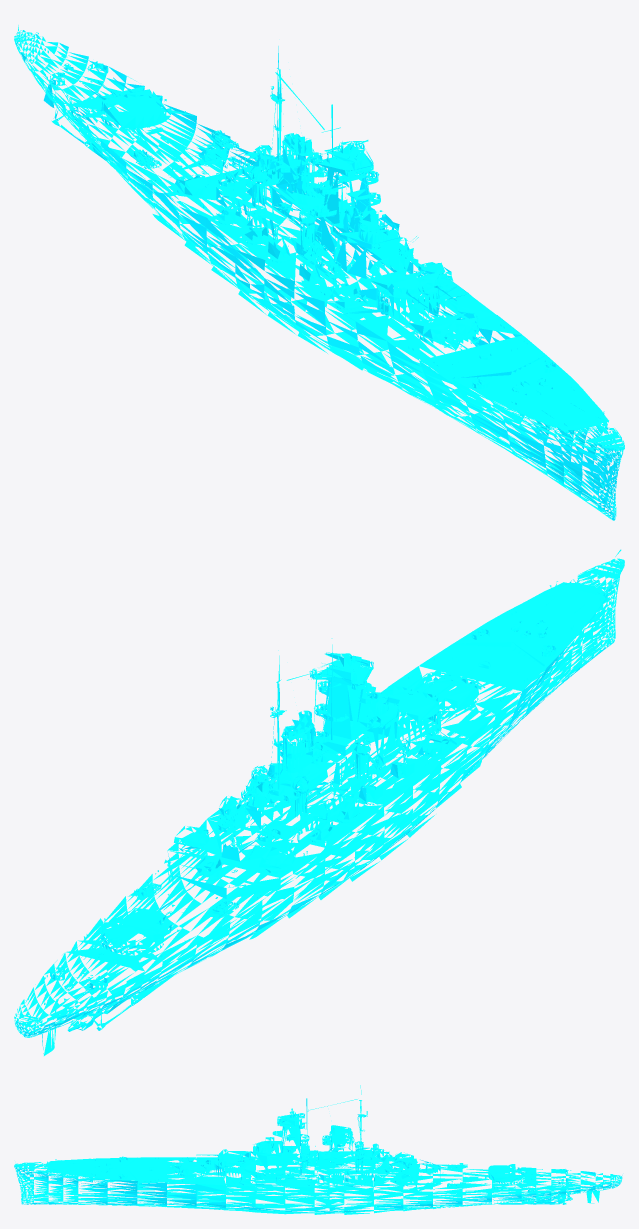
Rendered from PGSC010.glb.
The picture shows the model from 3 angles, top to bottom: view 1: azimuth 30°, elevation 25°; view 2: azimuth 150°, elevation 25°; view 3: azimuth 270°, elevation 25°; orthographic projection. The views are drawn at different scales.
Parts seen in each view (by area): view 1: hull_mid, main_battery, secondary_battery, superstructure, aa_mount, torpedo; view 2: hull_mid, main_battery, secondary_battery, superstructure, aa_mount; view 3: hull_mid, main_battery, secondary_battery, superstructure, aa_mount, torpedo.
Boxes of the visible parts, box(x1,y1,x2,y2) form: hull_mid: box(14, 25, 624, 520); main_battery: box(84, 77, 481, 347); secondary_battery: box(175, 141, 453, 307); superstructure: box(251, 86, 382, 222); aa_mount: box(56, 64, 552, 385); torpedo: box(127, 130, 239, 169); hull_mid: box(14, 549, 624, 1055); main_battery: box(84, 663, 481, 960); secondary_battery: box(174, 720, 451, 878); superstructure: box(251, 652, 381, 792); aa_mount: box(56, 629, 551, 984); hull_mid: box(14, 1085, 622, 1214); main_battery: box(162, 1149, 542, 1182); secondary_battery: box(239, 1151, 446, 1185); superstructure: box(265, 1108, 378, 1159); aa_mount: box(121, 1135, 564, 1184); torpedo: box(447, 1163, 467, 1188).
Bounding box in the file's own units: 1.98 × 3.7 × 17.21.
